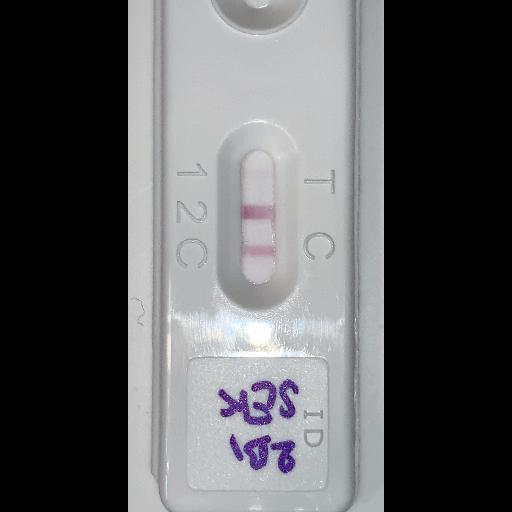Pos: (156, 0, 358, 510)
